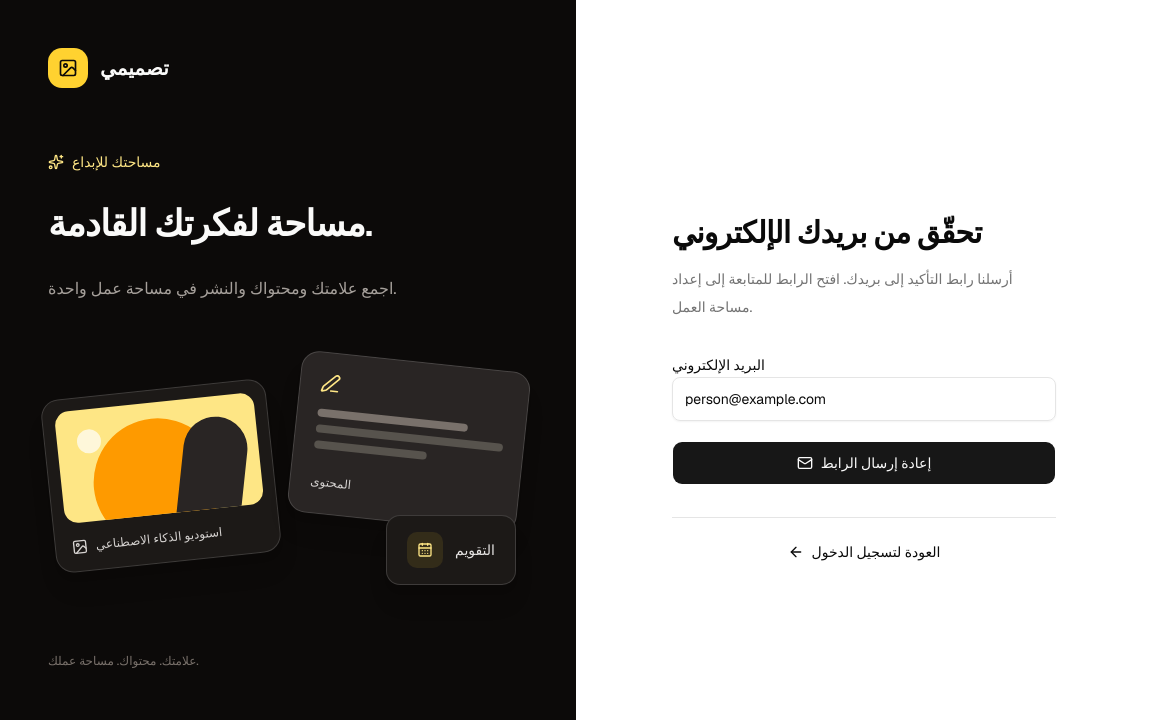
Test case: auth page behavior › verification shares the auth layout and resends with the requested destination in ar
Expected: the heading "مساحة لفكرتك القادمة." is shown, 48,200 -> 372,247
Expected: the field labelled "البريد الإلكتروني" holds "person@example.com", 672,377 -> 1056,421
Click the button "إعادة إرسال الرابط": (864,463) 672,441 -> 1056,485
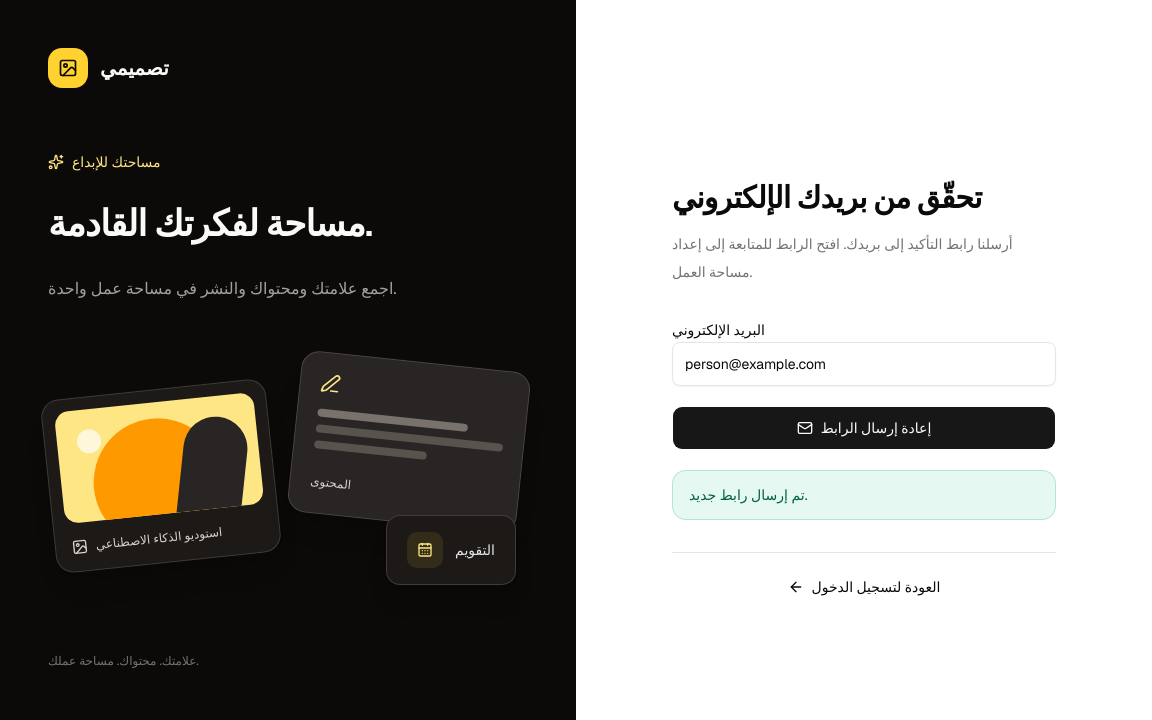
Now the message reads "تم إرسال رابط جديد.", box 689,486 -> 808,504
